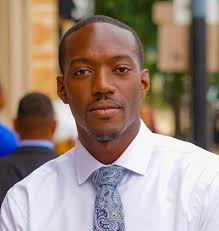black_male: (61, 36, 152, 148)
